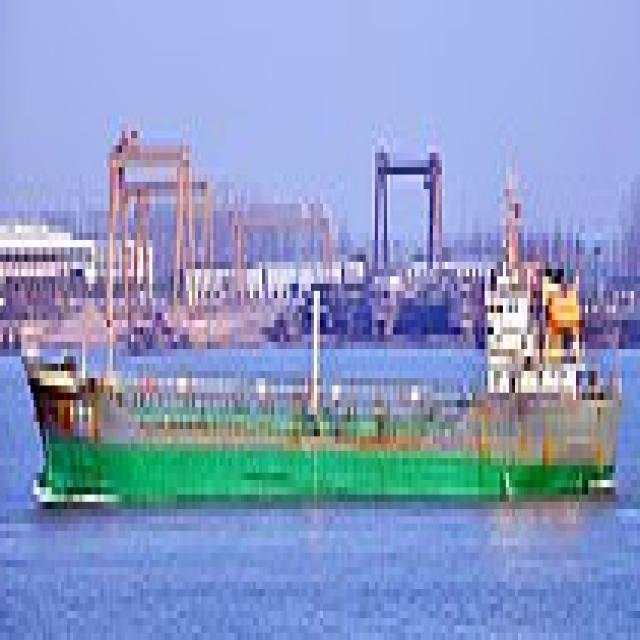Tanker: (24, 240, 631, 509)
